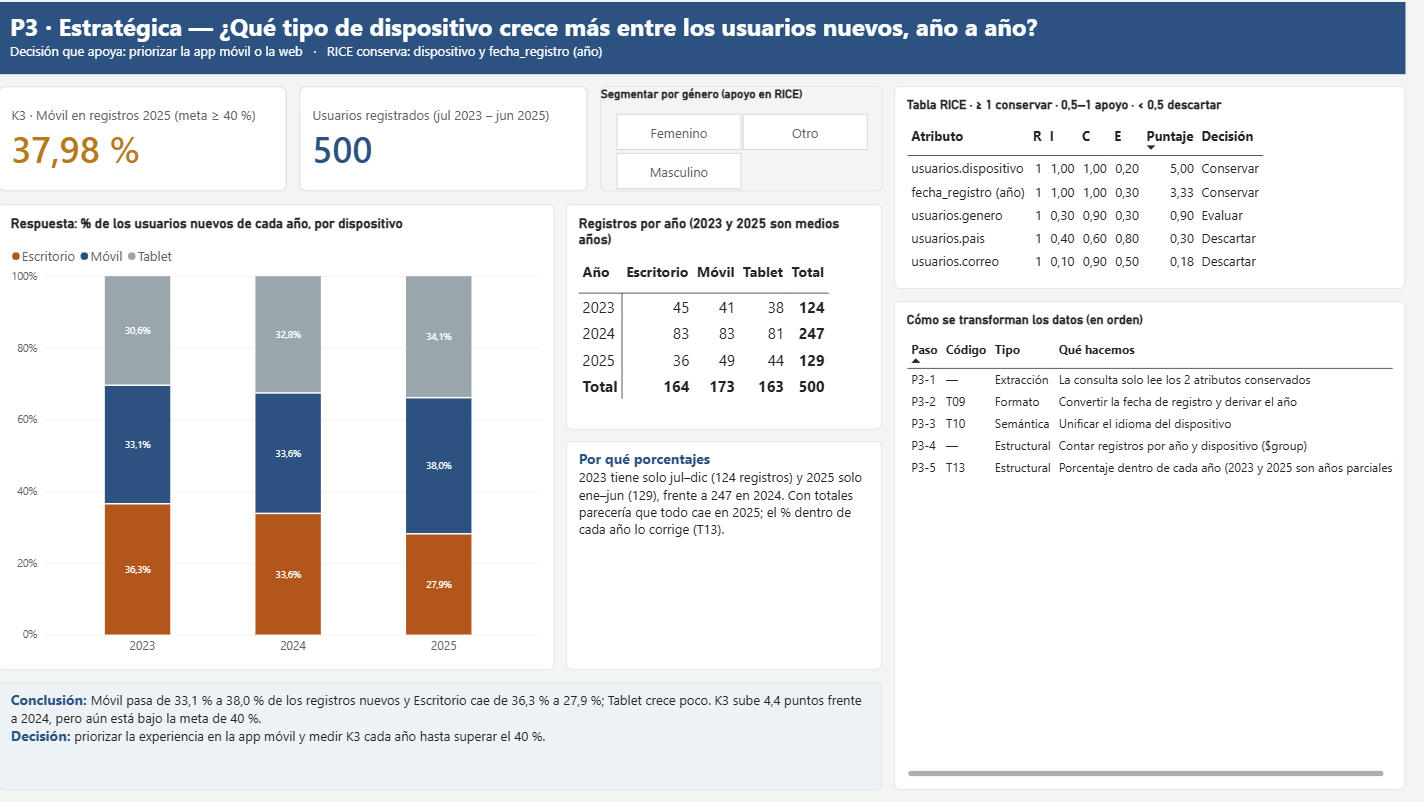

The dashboard page shown, as its layout file describes it:
{"tool":"powerbi","page":{"name":"Audiencia y campañas","canvas":[1920,1080],"ordinal":1},"visuals":[{"type":"hundredPercentStackedColumnChart","title":"P3 · Participación de cada dispositivo en los registros por año","fields":{"Category":["p3_registros_dispositivo.anio"],"Series":["p3_registros_dispositivo.dispositivo"],"Y":["Sum(p3_registros_dispositivo.registros)"]},"box":[16,272,410,440],"z":0},{"type":"clusteredBarChart","title":"Campañas · Cumplimiento promedio de la meta de likes por objetivo","fields":{"Category":["campanas.objetivo"],"Y":["fact_publicaciones.K4 Cumplimiento likes %"]},"box":[436,272,410,440],"z":1},{"type":"tableEx","title":"Usuarios más activos (publicaciones + reacciones + comentarios)","fields":{"Values":["dim_usuarios.usuario_id","dim_usuarios.dispositivo","dim_usuarios.nivel_actividad","dim_usuarios.total_actividad"]},"box":[856,272,408,440],"z":2},{"type":"cardVisual","fields":{"Data":["fact_publicaciones.K3 Participacion Movil %"]},"box":[520,70,244,110],"z":3},{"type":"cardVisual","fields":{"Data":["fact_publicaciones.K4 Cumplimiento likes %"]},"box":[772,70,244,110],"z":4},{"type":"cardVisual","fields":{"Data":["fact_publicaciones.K5 Usuarios activos %"]},"box":[1024,70,244,110],"z":5},{"type":"textbox","box":[16,8,640,54],"z":6},{"type":"slicer","fields":{"Values":["dim_usuarios.nivel_actividad"]},"box":[16,70,496,110],"z":7},{"type":"slicer","fields":{"Values":["campanas.objetivo"]},"box":[436,190,410,74],"z":8}]}

Visuals, with their boxes in screenshot pixels (x1, y1, x2, y2), scaled from the page's 1920x1080 canvas onto the 1424x802 screenshot:
"P3 · Participación de cada dispositivo en los registros por año" hundredPercentStackedColumnChart: [x1=12, y1=202, x2=316, y2=529]
"Campañas · Cumplimiento promedio de la meta de likes por objetivo" clusteredBarChart: [x1=323, y1=202, x2=627, y2=529]
"Usuarios más activos (publicaciones + reacciones + comentarios)" tableEx: [x1=635, y1=202, x2=937, y2=529]
cardVisual - fact_publicaciones.K3 Participacion Movil %: [x1=386, y1=52, x2=567, y2=134]
cardVisual - fact_publicaciones.K4 Cumplimiento likes %: [x1=573, y1=52, x2=754, y2=134]
cardVisual - fact_publicaciones.K5 Usuarios activos %: [x1=759, y1=52, x2=940, y2=134]
textbox: [x1=12, y1=6, x2=487, y2=46]
slicer - dim_usuarios.nivel_actividad: [x1=12, y1=52, x2=380, y2=134]
slicer - campanas.objetivo: [x1=323, y1=141, x2=627, y2=196]
